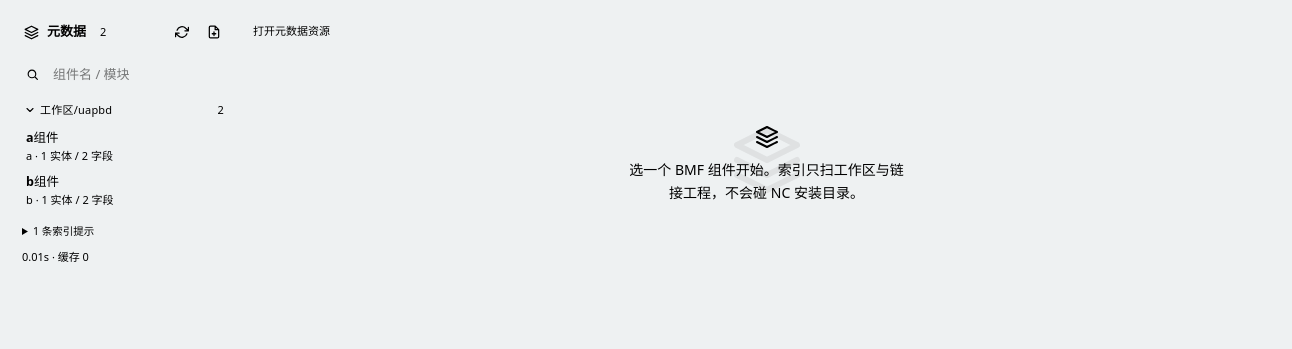
Scenario: 元数据页 › 快速切换两个正常组件时只采用最后一次选中
Click the button with class "meta-entry" showing "a组件 a · 1 实体 / 2 字段" at point(124, 146), box [18,124,230,168]
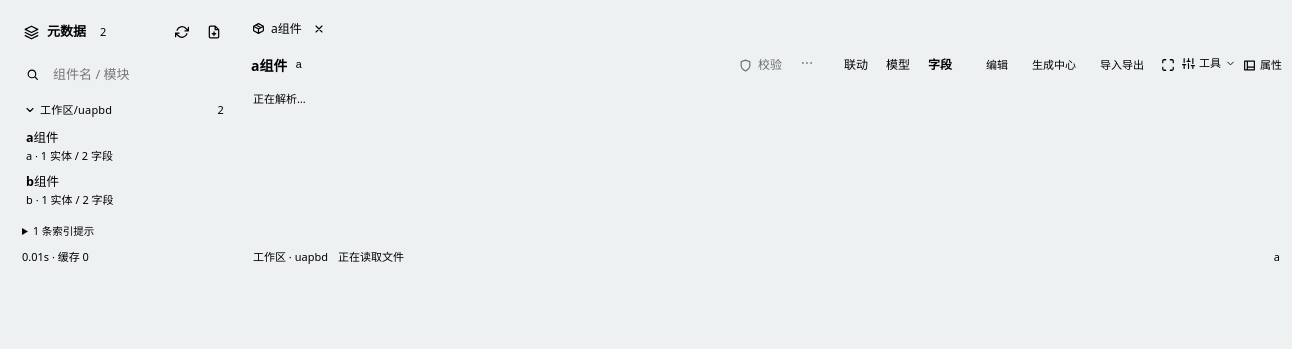
Click the button with class "meta-entry" showing "b组件 b · 1 实体 / 2 字段" at point(124, 190), box [18,168,230,212]
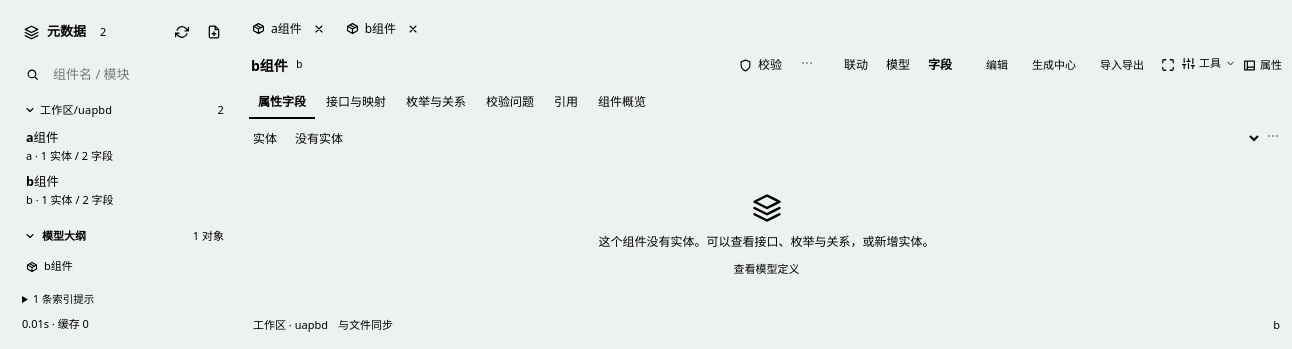
Result: the heading "b组件" is shown at [251,54,288,76]
